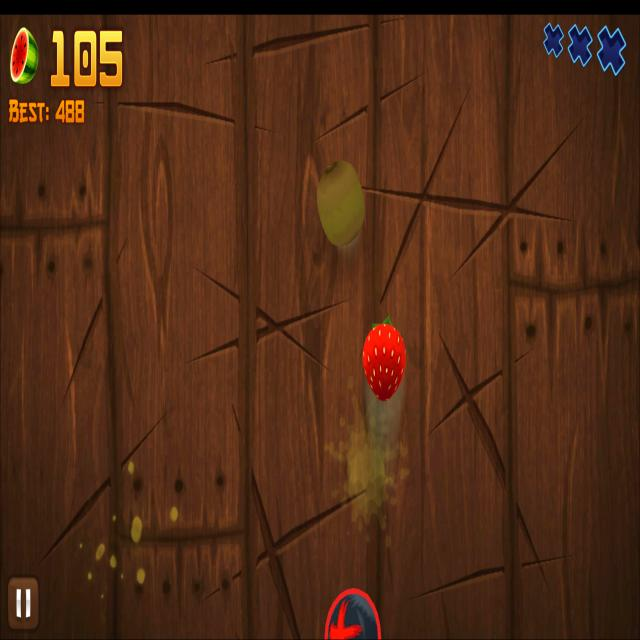bomb: (325, 585, 381, 640)
fruit: (316, 160, 366, 247), (362, 321, 407, 402)
